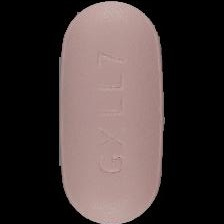53808-1010: (0, 0, 224, 224)
